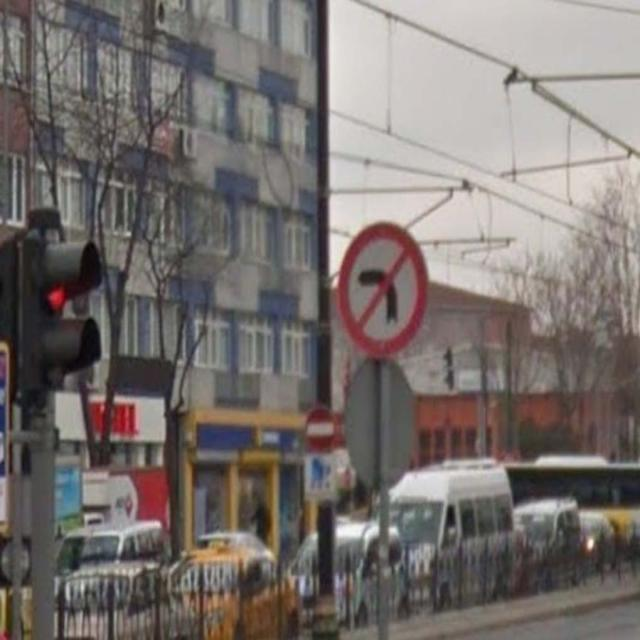soladonulmez: (338, 220, 429, 356)
